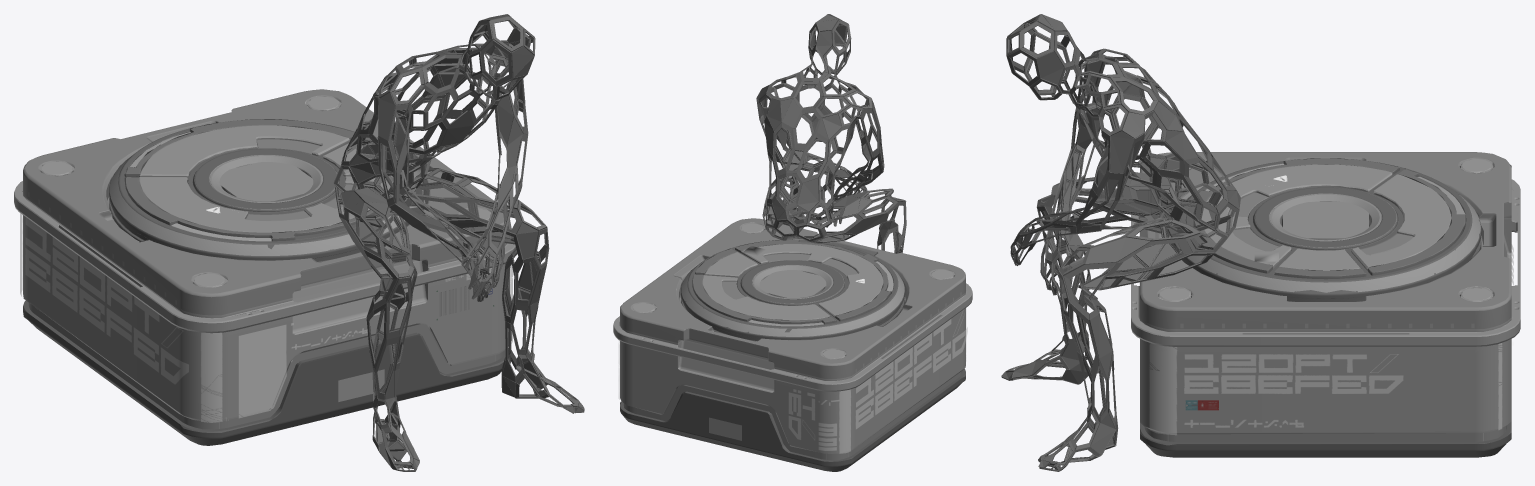
Rendered from header-transformed.glb.
3 views of the same model, side by side, from view 1: azimuth 30°, elevation 25°; view 2: azimuth 150°, elevation 25°; view 3: azimuth 270°, elevation 25° (orthographic). The views are drawn at different scales.
Parts seen in each view (by area): view 1: Object_22, Object_14, Object_8, Object_4, Object_18, Object_10; view 2: Object_22, Object_14, Object_4, Object_18, Object_8; view 3: Object_22, Object_14, Object_4, Object_8, Object_18.
Part boxes in pixels (x1=…): Object_22: x1=14, y1=89, x2=515, y2=445; Object_14: x1=222, y1=14, x2=584, y2=471; Object_8: x1=20, y1=102, x2=512, y2=422; Object_4: x1=109, y1=121, x2=423, y2=262; Object_18: x1=28, y1=95, x2=495, y2=428; Object_10: x1=206, y1=207, x2=493, y2=320; Object_22: x1=613, y1=218, x2=972, y2=471; Object_14: x1=756, y1=14, x2=906, y2=297; Object_4: x1=681, y1=239, x2=904, y2=341; Object_18: x1=630, y1=222, x2=961, y2=459; Object_8: x1=618, y1=230, x2=967, y2=453; Object_22: x1=1131, y1=152, x2=1520, y2=457; Object_14: x1=1001, y1=14, x2=1369, y2=471; Object_4: x1=1170, y1=159, x2=1481, y2=301; Object_8: x1=1139, y1=232, x2=1513, y2=434; Object_18: x1=1146, y1=159, x2=1505, y2=441.
Size of what is drawn, in the model's own units: 2.14 by 2.45 by 2.79.
5 materials, 4 textured.
